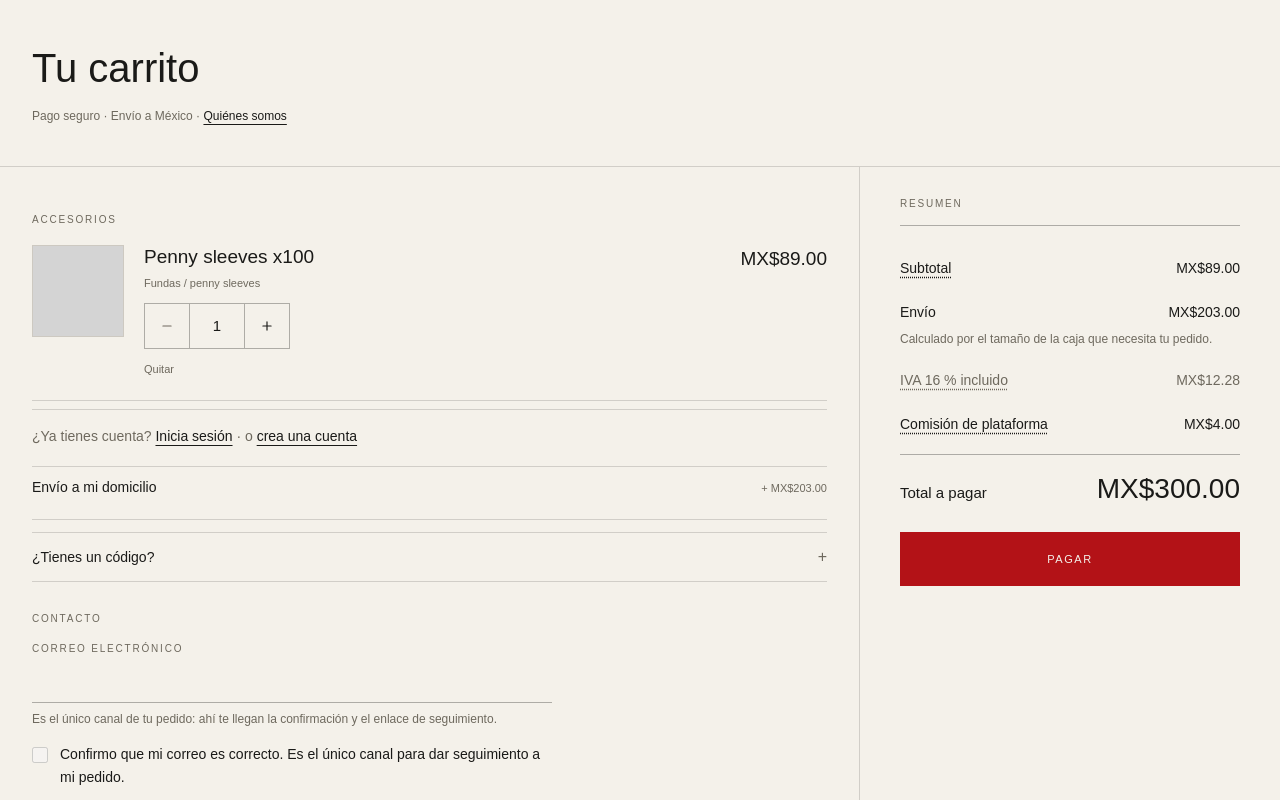
Scenario: AC-UX-8 (AC-F9) · el envío lo dice la cotización › fila «Envío» = shippingFeeCents de la cotización; con caja: boxHint y ⛔ sin label; al cambiar: shippingChanged
This screenshot has width=1280, height=800.
Expected: the text "MX$203.00" is shown, [1168,302,1240,322]
Expected: the text "Calculado por el tamaño de la caja que necesita tu pedido." is shown, [900,332,1212,346]
What coordinates should you click on to do the following:
click the button named "Agregar una"
I would click on:
 (267, 326)
Its box is [245,304,289,348].
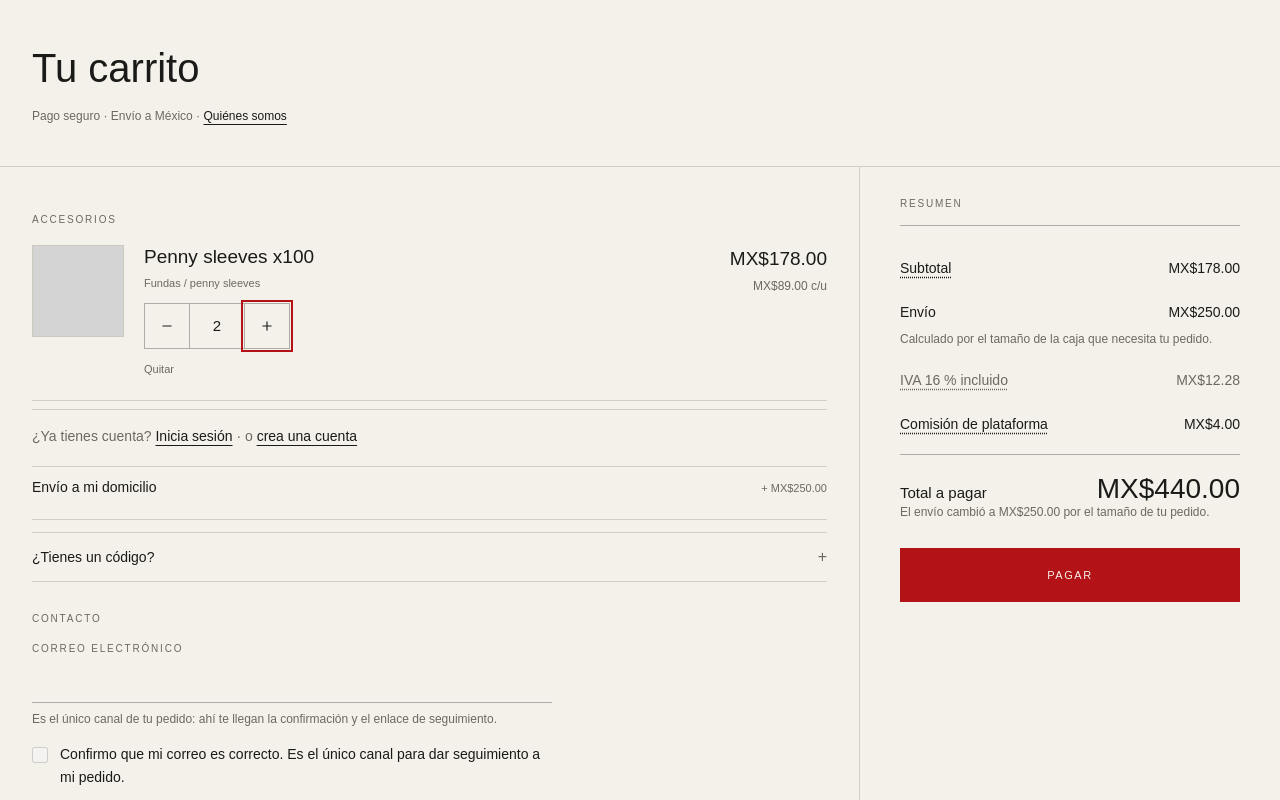
Expected: the text "El envío cambió a MX$250.00 por el tamaño de tu pedido." is shown, [900,504,1240,520]
